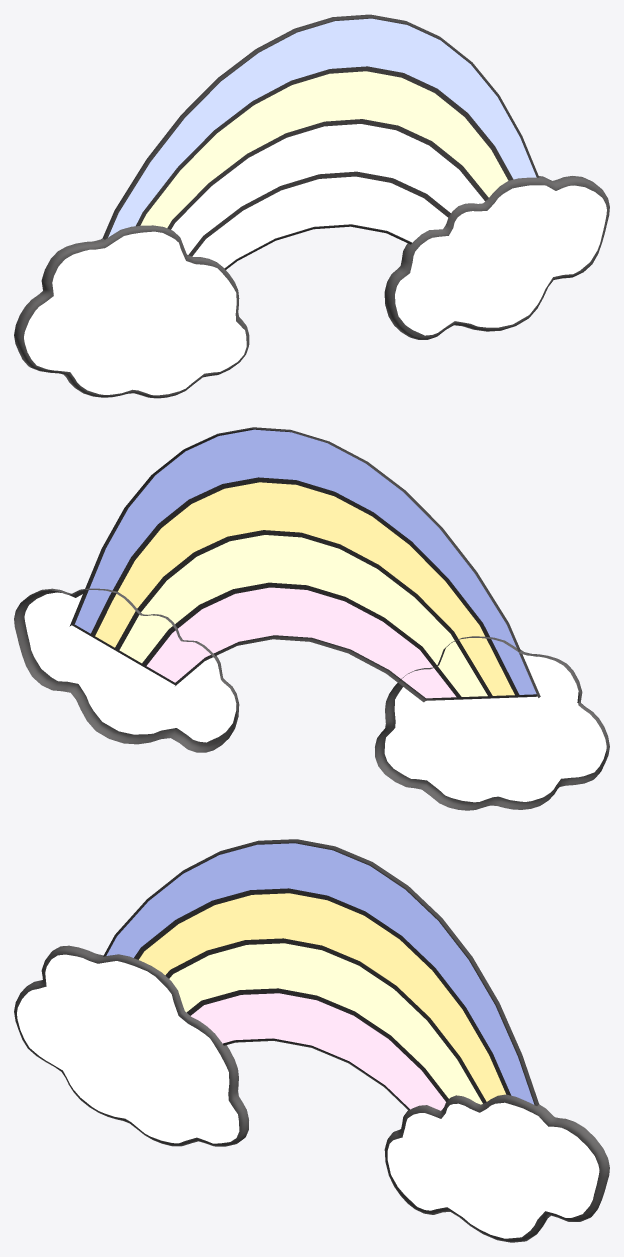
Rendered from Rainbow_signboard_1.glb.
The picture shows the model from 3 angles, top to bottom: view 1: azimuth 30°, elevation 25°; view 2: azimuth 150°, elevation 25°; view 3: azimuth 330°, elevation 25°; orthographic projection.
Visible parts, largest first — view 1: Rainbow_signboard_1; view 2: Rainbow_signboard_1; view 3: Rainbow_signboard_1.
Boxes of the visible parts, x1,y1,x2,y2 form: Rainbow_signboard_1: [14, 14, 609, 398]; Rainbow_signboard_1: [14, 427, 609, 810]; Rainbow_signboard_1: [14, 839, 609, 1242].
Bounding box in the file's own units: 2.72 × 1.54 × 0.0402.
2 materials, 1 textured.
